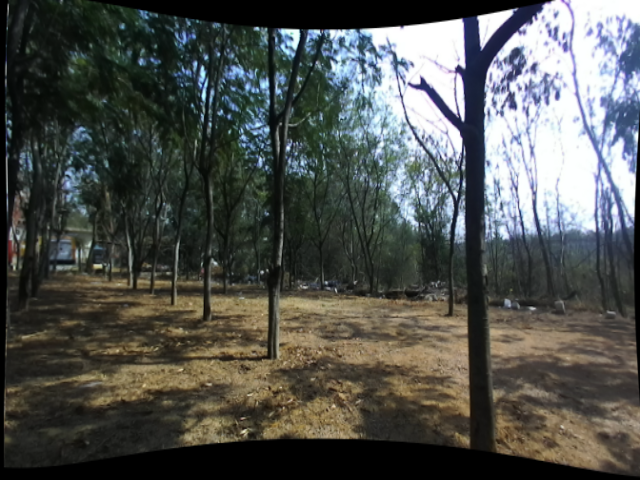tree: (409, 56, 525, 454), (230, 85, 330, 365)
